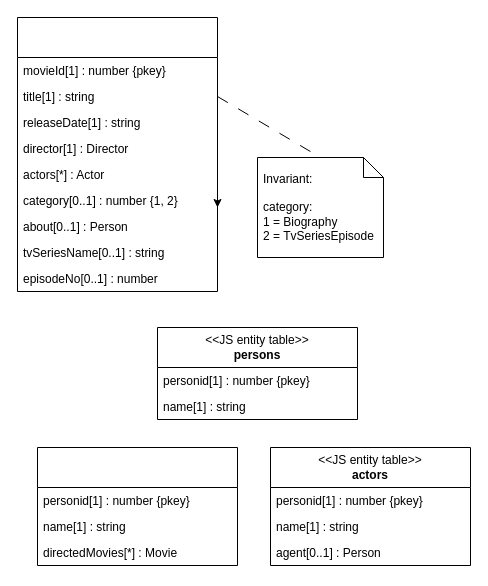
Image size: 488x586. Some labels were removed from this diagram. Each missing label, with the box of its shape:
<<JS entity table>> directors: (36, 446, 238, 566)
<<JS entity table>> movies: (16, 16, 218, 292)
